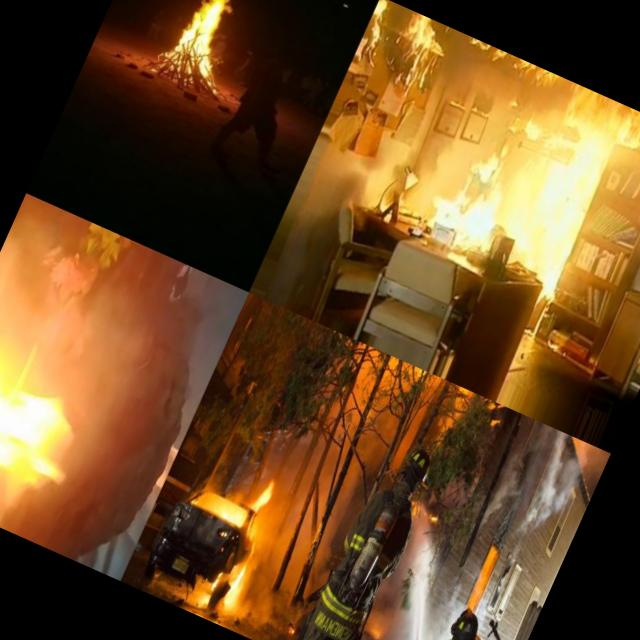fire: (455, 35, 640, 171), (416, 120, 533, 260), (157, 0, 260, 91), (368, 8, 452, 116), (213, 536, 269, 616), (238, 463, 288, 528), (356, 0, 396, 58), (6, 491, 49, 542)
smoke: (115, 272, 249, 486), (478, 415, 610, 556)
